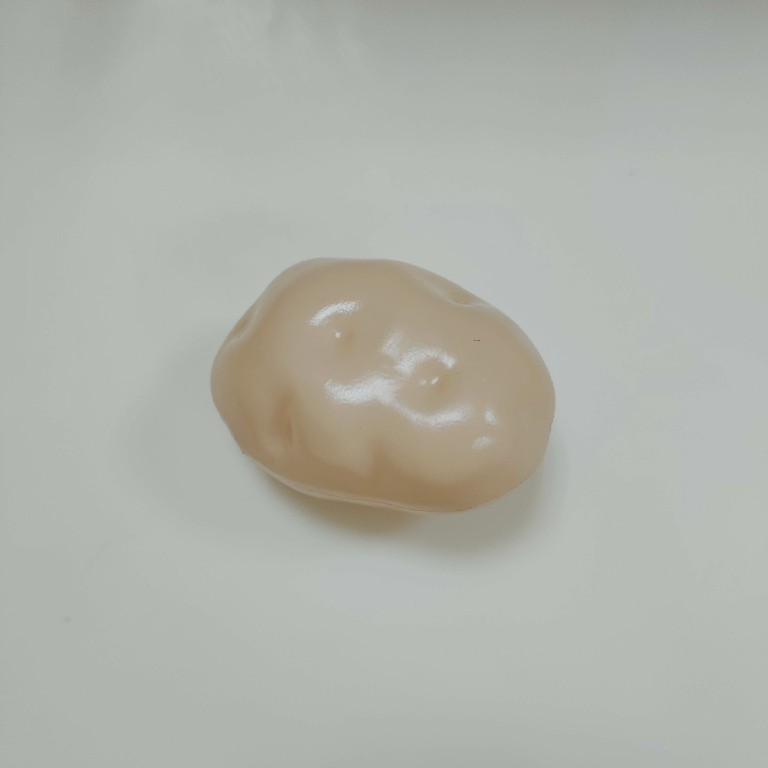fruit_potato: (204, 251, 561, 524)
